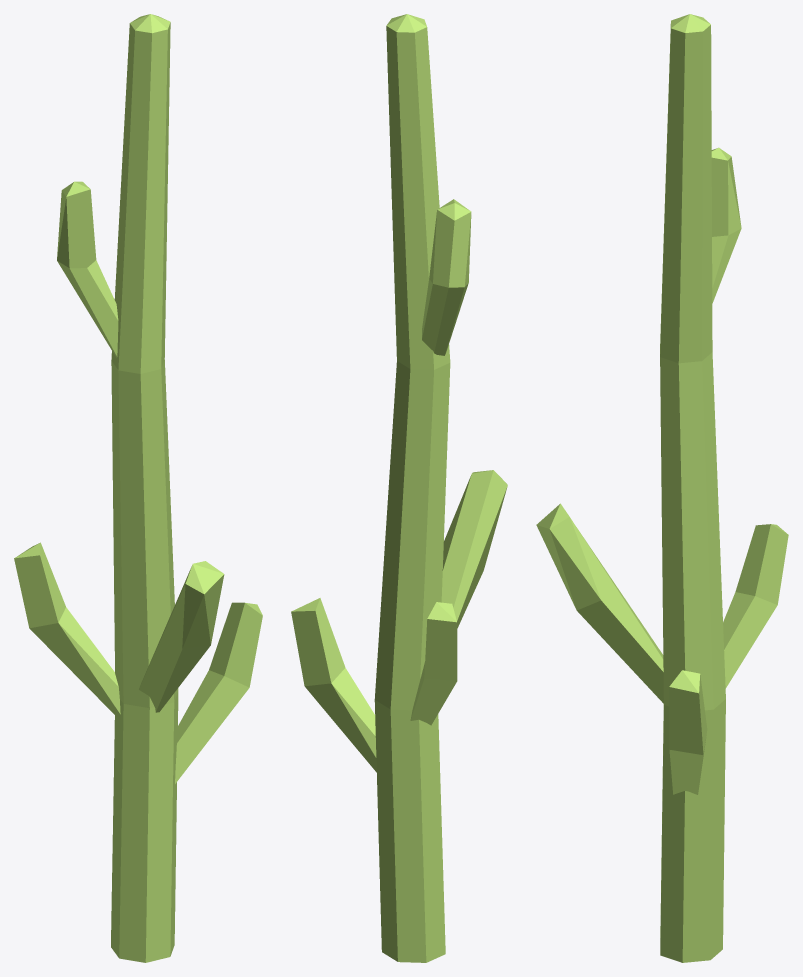
Rendered from Cactus_l_02.fbx.
3 renders of one model, left to right at view 1: azimuth 30°, elevation 25°; view 2: azimuth 150°, elevation 25°; view 3: azimuth 270°, elevation 25°, orthographic.
Parts seen in each view (by area): view 1: Cactus_l_02; view 2: Cactus_l_02; view 3: Cactus_l_02.
Boxes of the visible parts, x1=… form: Cactus_l_02: x1=14, y1=14, x2=262, y2=962; Cactus_l_02: x1=291, y1=14, x2=507, y2=962; Cactus_l_02: x1=536, y1=14, x2=788, y2=962.
Bounding box in the file's own units: 172 × 748 × 182.
